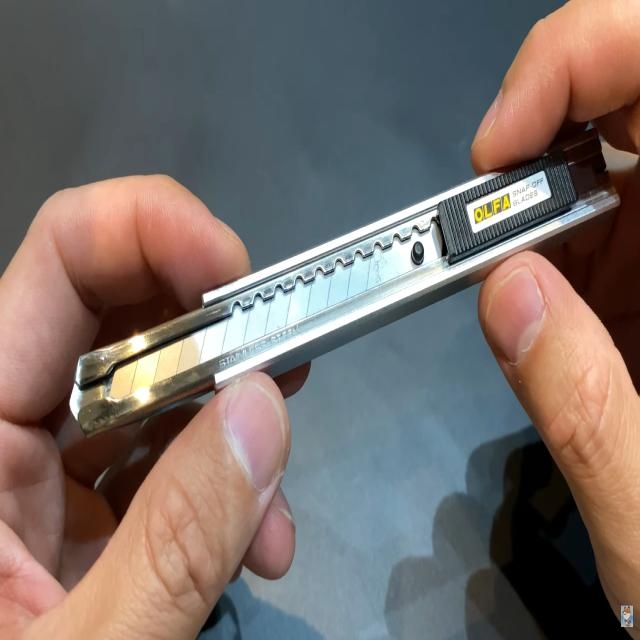cutter: (18, 3, 640, 476)
